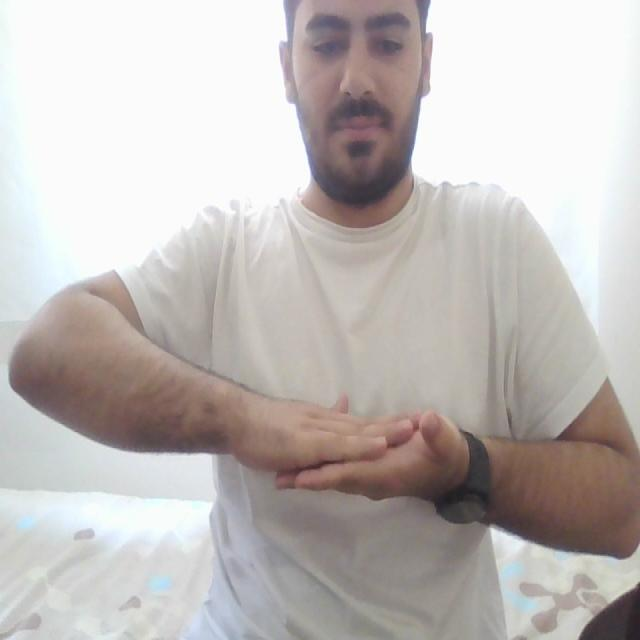Arkadas: (132, 368, 598, 523)
